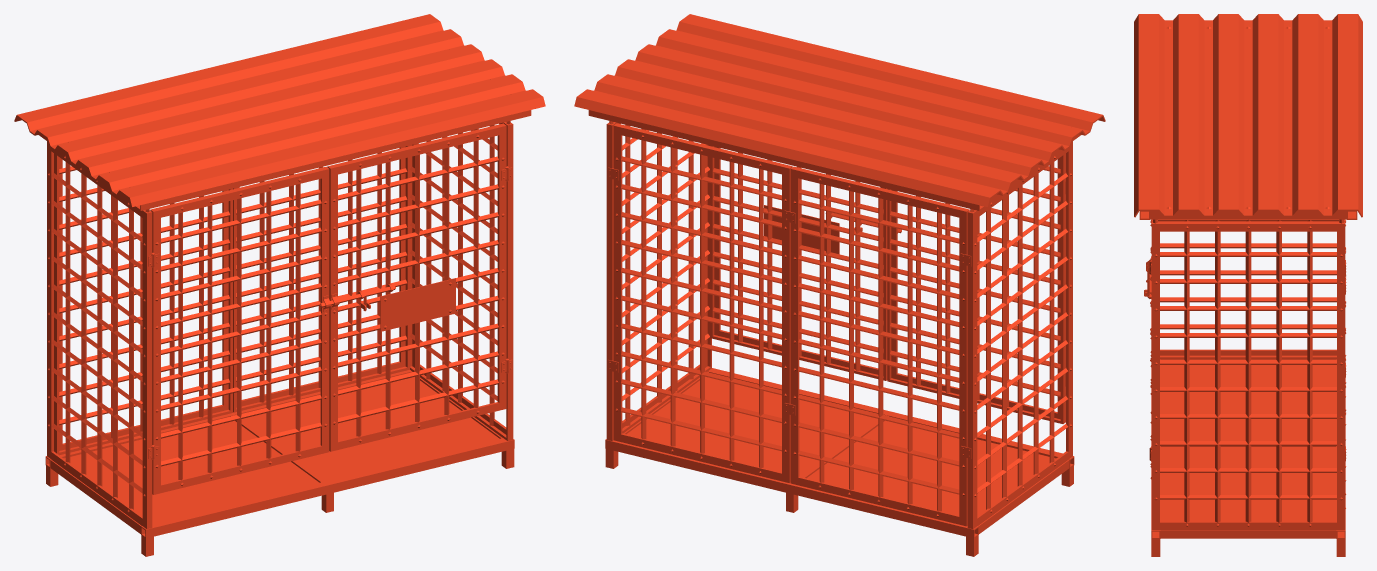
The model's file is SM_Gas_Cage_City.fbx.
3 renders of one model, left to right at view 1: azimuth 30°, elevation 25°; view 2: azimuth 150°, elevation 25°; view 3: azimuth 270°, elevation 25°, orthographic. The views are drawn at different scales.
Visible parts, largest first — view 1: SM_Gas_Cage_City_Base, SM_Gas_Cage_City_Door_L, SM_Gas_Cage_City_Door_R; view 2: SM_Gas_Cage_City_Base, SM_Gas_Cage_City_Door_L, SM_Gas_Cage_City_Door_R; view 3: SM_Gas_Cage_City_Base, SM_Gas_Cage_City_Door_L.
Boxes of the visible parts, x1,y1,x2,y2 form: SM_Gas_Cage_City_Base: (14, 14, 545, 556); SM_Gas_Cage_City_Door_L: (319, 123, 508, 451); SM_Gas_Cage_City_Door_R: (150, 166, 331, 494); SM_Gas_Cage_City_Base: (574, 14, 1105, 556); SM_Gas_Cage_City_Door_L: (710, 145, 901, 380); SM_Gas_Cage_City_Door_R: (887, 153, 1065, 423); SM_Gas_Cage_City_Base: (1134, 14, 1362, 556); SM_Gas_Cage_City_Door_L: (1144, 219, 1157, 479).
Size of the model in its own units: 2.68 by 2.28 by 1.32.
